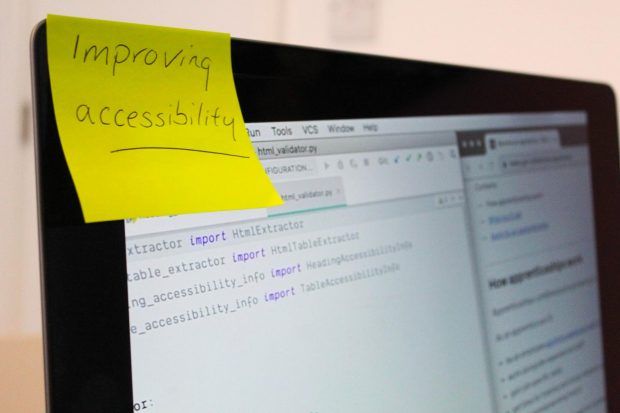Note: (45, 14, 285, 222)
